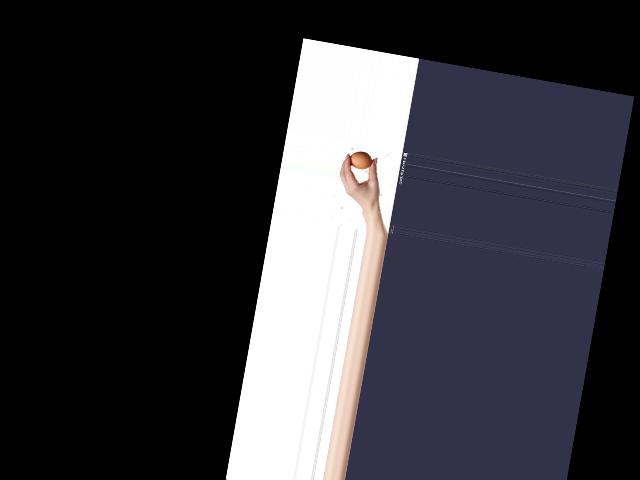egg: (348, 150, 373, 171)
